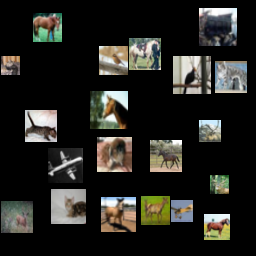airplane: (13, 142, 39, 168)
automobile: (79, 154, 114, 189), (40, 52, 62, 74)
bird: (56, 209, 94, 247)
cat: (214, 89, 240, 115), (193, 16, 219, 42), (70, 128, 89, 147)
dog: (173, 173, 208, 208)
frog: (28, 6, 66, 44), (95, 36, 127, 68)
ship: (150, 18, 188, 56), (87, 96, 113, 122), (168, 137, 190, 159), (10, 73, 26, 89)
